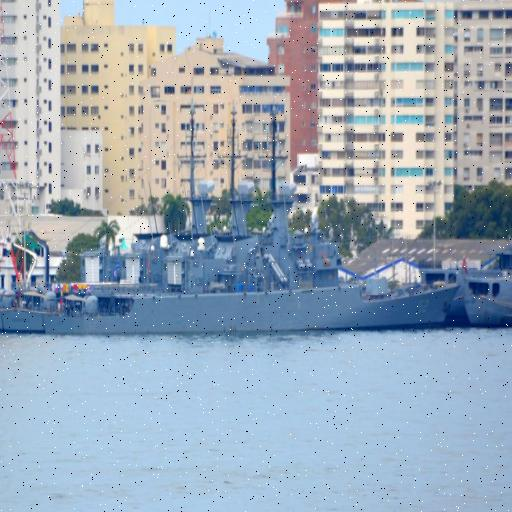Fragata: (10, 114, 464, 344)
